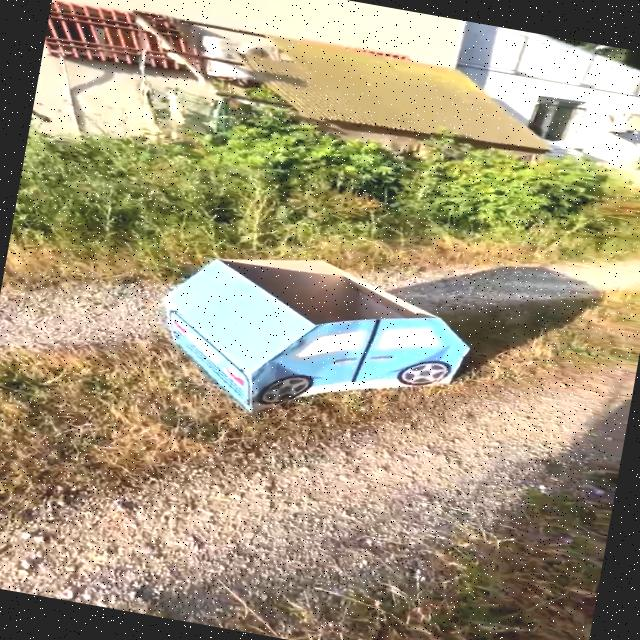blue_car: (90, 198, 557, 464)
